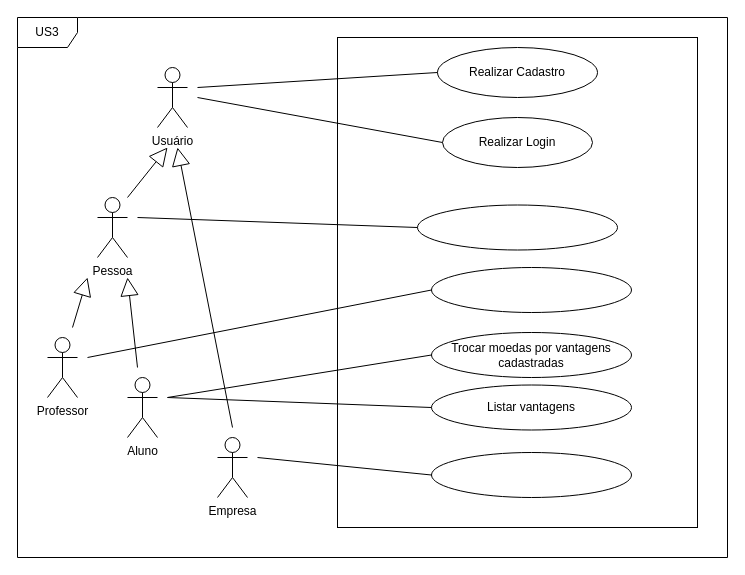
Some shapes in this 745 by 575 pixel diagram are drawn without their labels. The centre of each missing label's shape, as x and y in pixels:
Cadastrar vantagens: the point at 531,475
Consultar extrato da conta: the point at 517,227
Distribuir moedas: the point at 531,289
